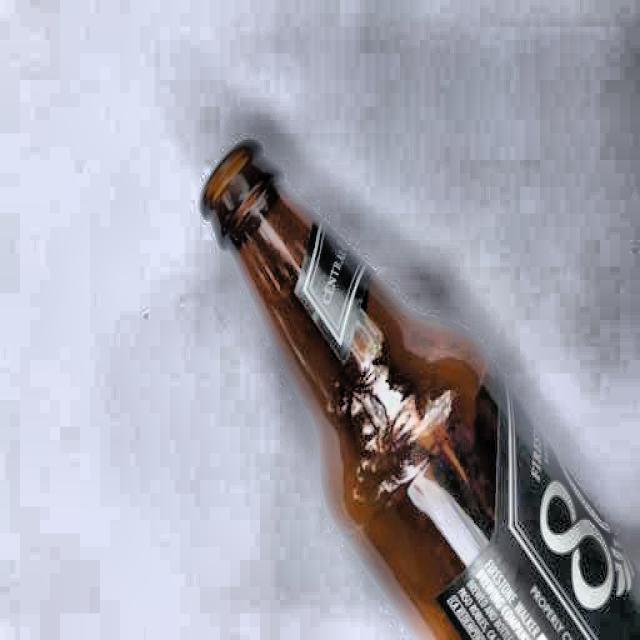glass: (192, 132, 640, 640)
